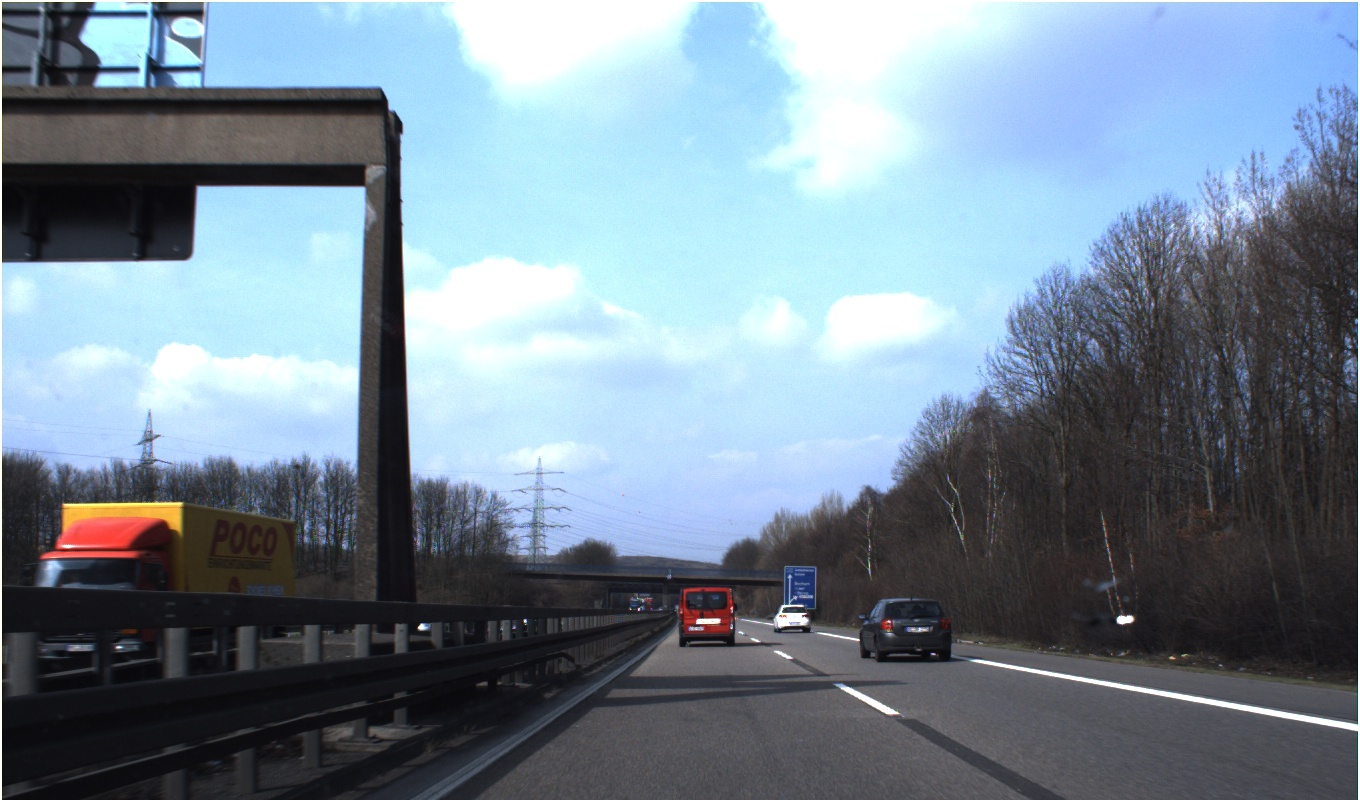car: (51, 478, 310, 694), (859, 594, 962, 680), (667, 582, 740, 672), (770, 602, 820, 647), (500, 602, 544, 650), (423, 604, 467, 644), (627, 590, 647, 619)
